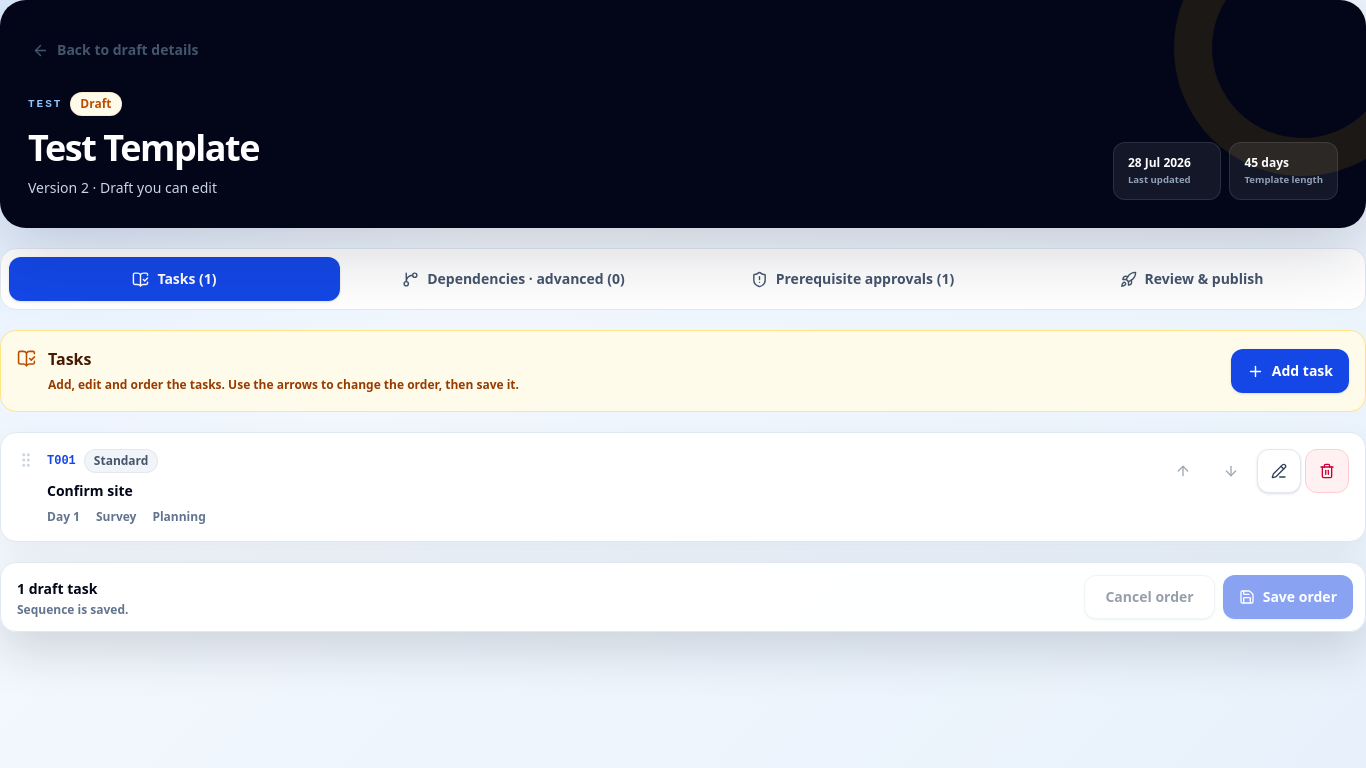
review and publish › checks the draft as soon as Review opens
The width and height of the screenshot is (1366, 768).
Expected: the element with test id "draft-task-T001" is shown, x1=0 y1=432 x2=1365 y2=542
Click the button "Review & publish" at (1192, 279), box x1=1026 y1=257 x2=1357 y2=301
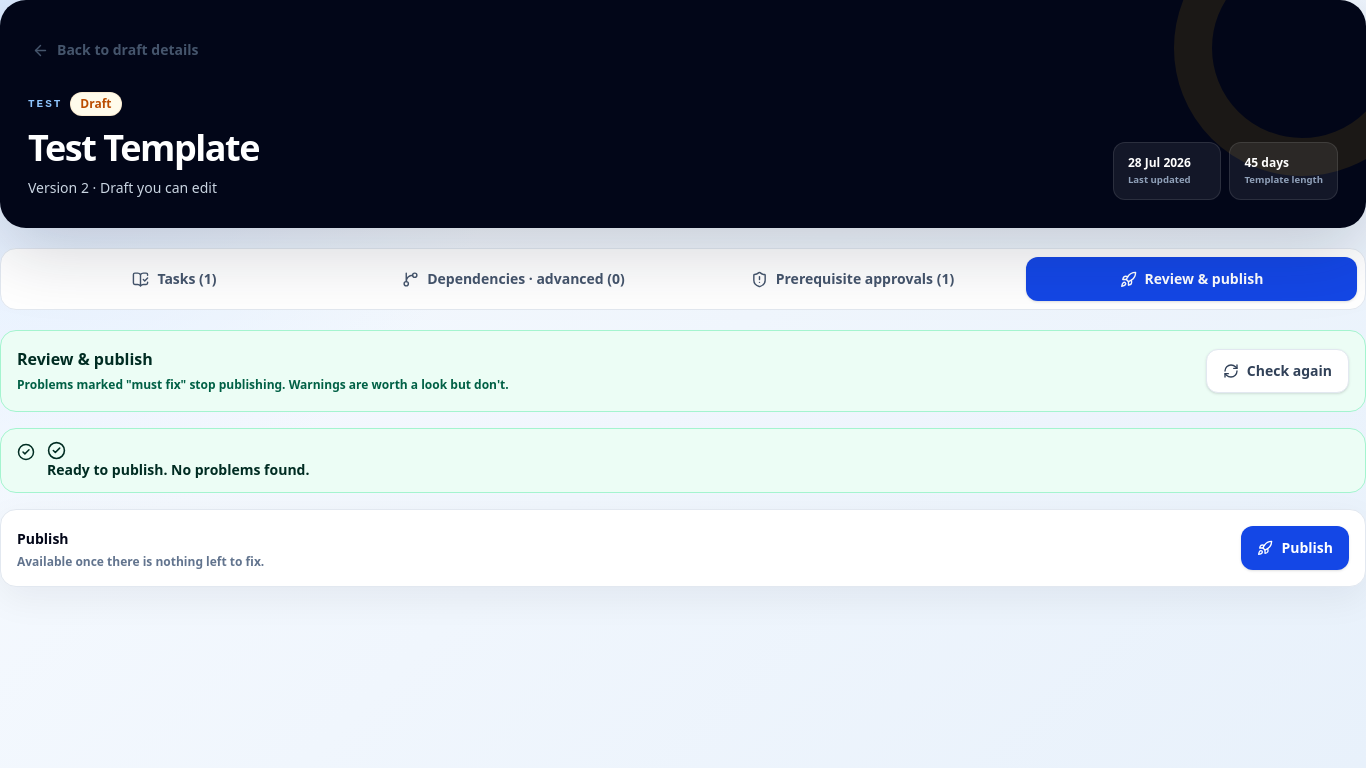
Expected: the text "Ready to publish. No problems found." is shown, x1=47 y1=460 x2=310 y2=479
